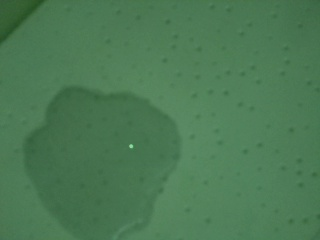Water_detected: (47, 109, 154, 220)
